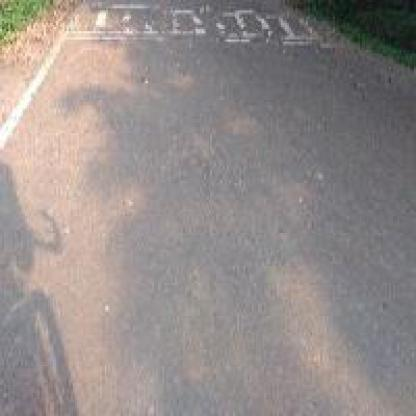Speed Bump: (58, 4, 322, 40)
